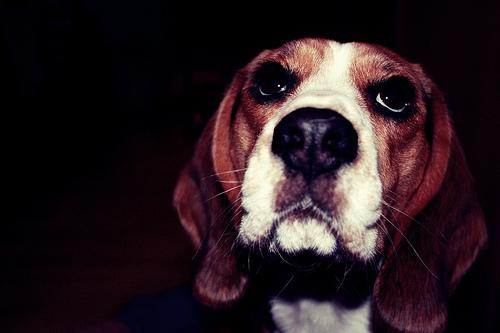dog-beagle: (172, 38, 487, 332)
